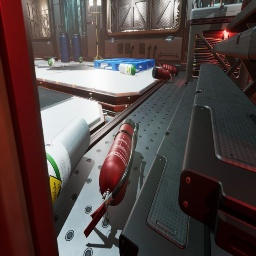0: (45, 116, 90, 205), (119, 63, 139, 75), (48, 58, 55, 66), (79, 57, 82, 63)
FireExtinguisher ]: (84, 118, 139, 238), (152, 67, 174, 82), (159, 63, 179, 76), (102, 192, 106, 197), (242, 0, 243, 3), (170, 75, 171, 76), (162, 66, 162, 67)
SafetySwitchPanel ,: (87, 0, 93, 17)
